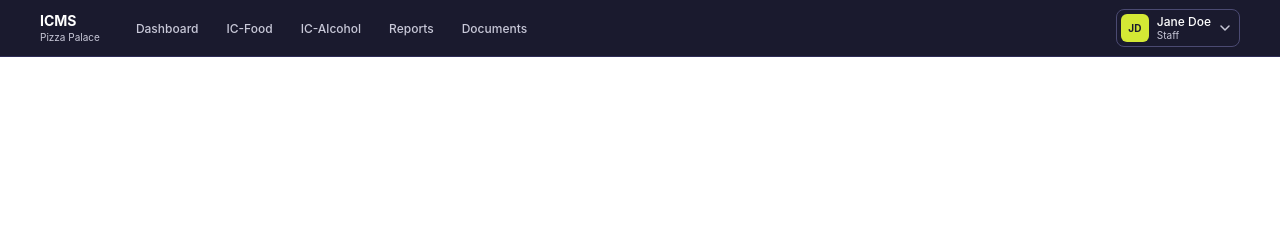
Scenario: AppHeader › dropdown › shows Admin Panel link for admin users
The width and height of the screenshot is (1280, 236).
Click the element with class "user-chip" at (1178, 28), box [1116, 9, 1240, 47]
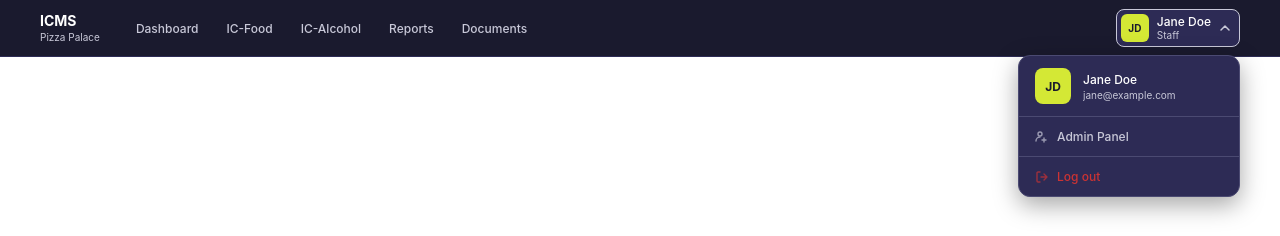
Check: the link with class "dropdown-item" showing "Admin Panel" is shown, box [1035, 129, 1129, 144]
